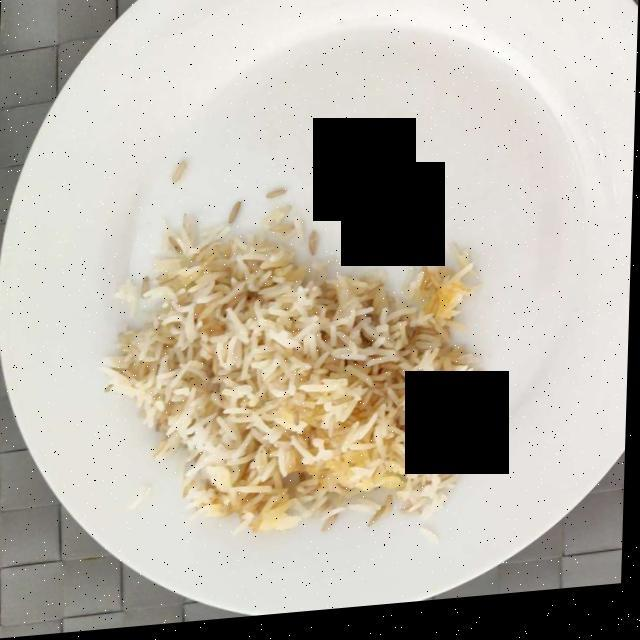rice: (110, 239, 460, 536)
